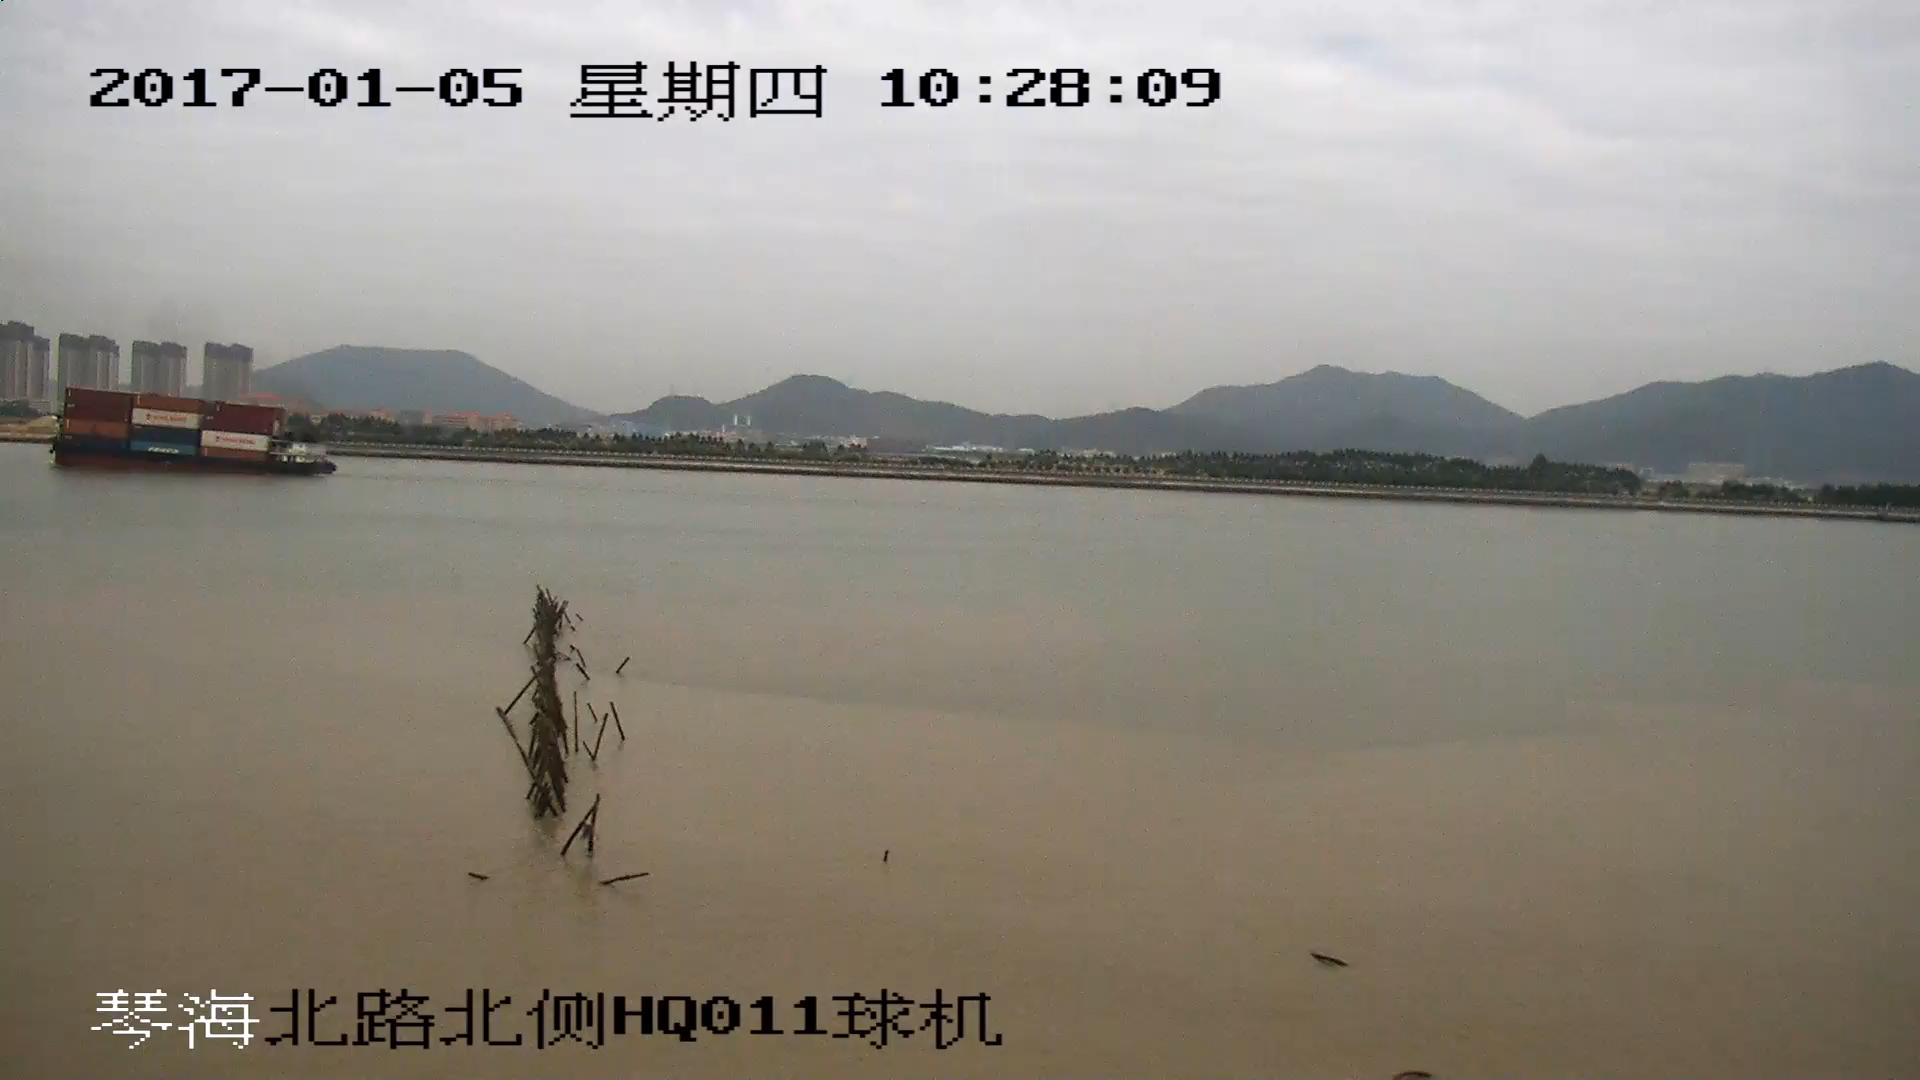container ship: (49, 389, 333, 476)
